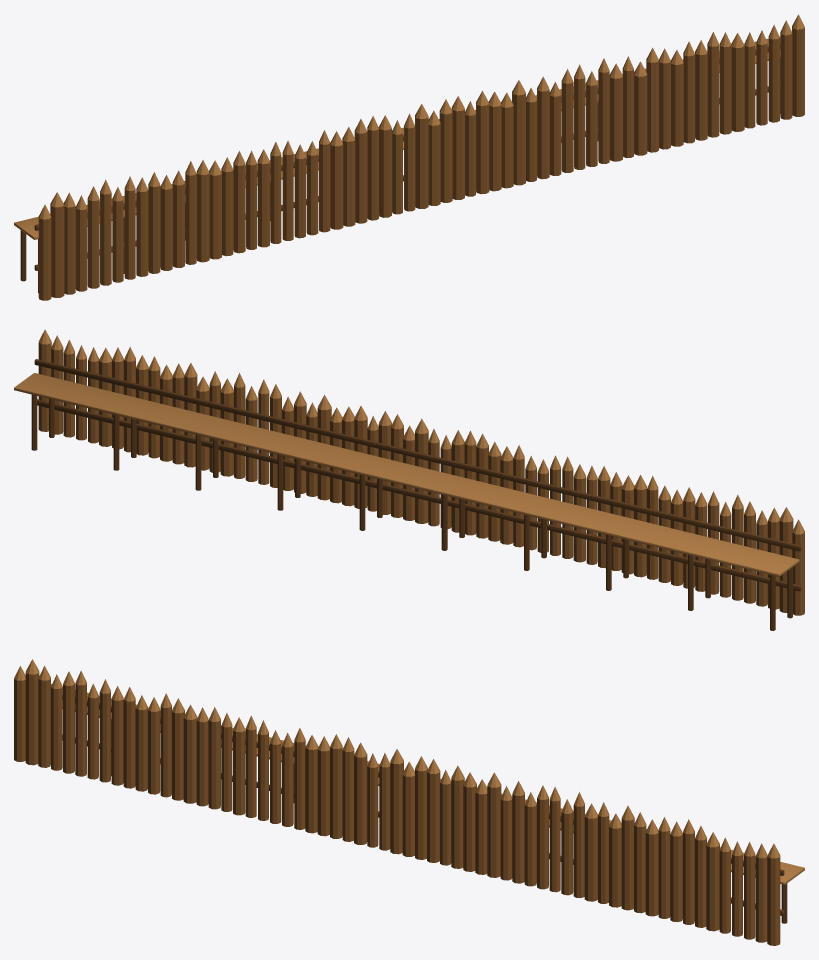
File: mur_bok_1.glb
The picture shows the model from 3 angles, top to bottom: view 1: azimuth 30°, elevation 25°; view 2: azimuth 150°, elevation 25°; view 3: azimuth 330°, elevation 25°; orthographic projection.
Parts seen in each view (by area): view 1: mur_bok_1; view 2: mur_bok_1; view 3: mur_bok_1.
Boxes of the visible parts, x1=… form: mur_bok_1: x1=14, y1=14, x2=804, y2=300; mur_bok_1: x1=14, y1=329, x2=804, y2=630; mur_bok_1: x1=14, y1=659, x2=804, y2=945.
Bounding box in the file's own units: 28 × 3.64 × 1.83.
